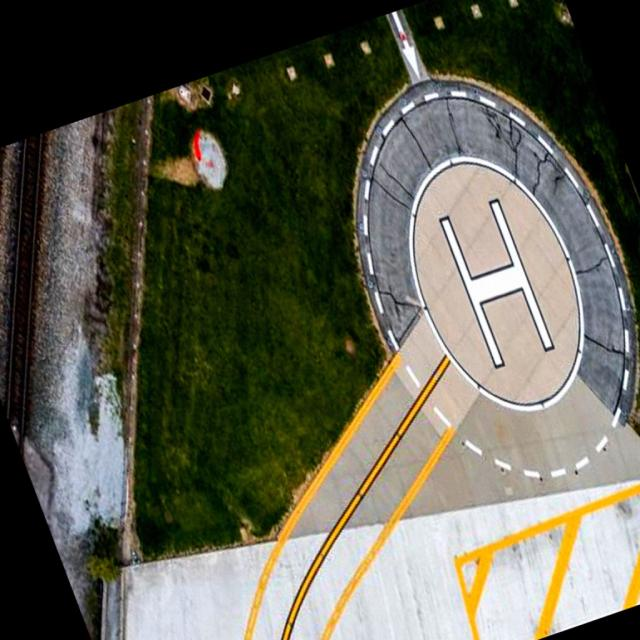helipad: (402, 150, 588, 414)
